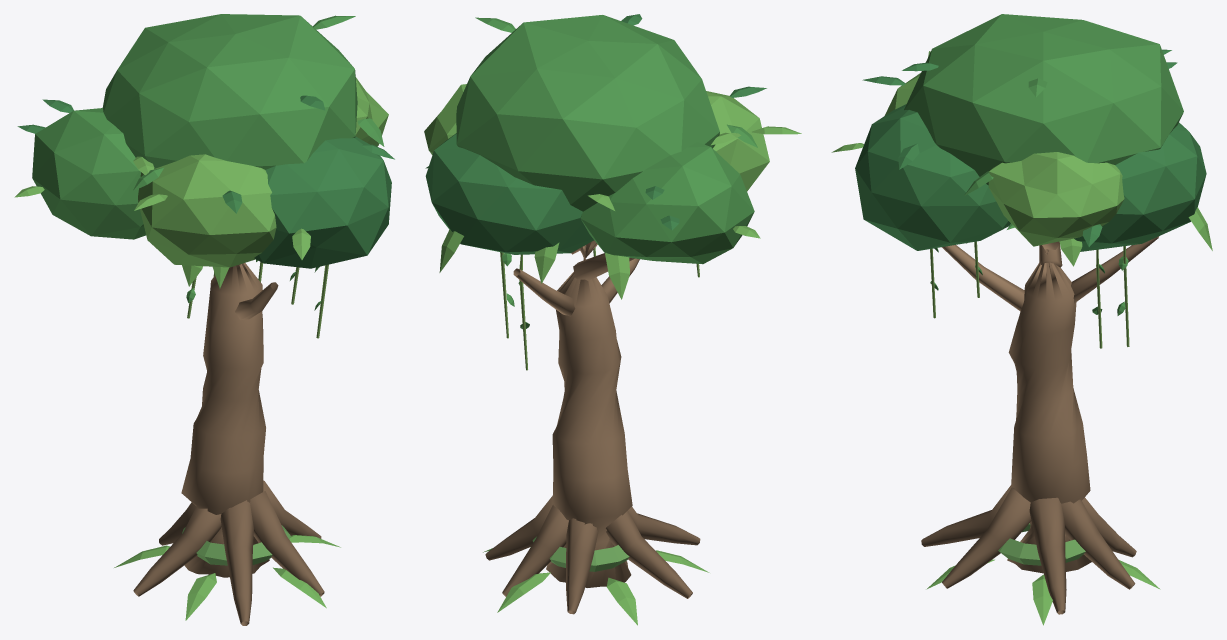
File: tree_2.glb
The picture shows the model from 3 angles, left to right: view 1: azimuth 30°, elevation 25°; view 2: azimuth 150°, elevation 25°; view 3: azimuth 270°, elevation 25°; orthographic projection.
Visible parts, largest first — view 1: tube; view 2: tube; view 3: tube.
Part boxes in pixels (x1,y1,x2,y2): tube: (14, 14, 394, 625); tube: (424, 14, 801, 625); tube: (831, 14, 1212, 625).
Size of the model in its own units: 5.6 by 8.4 by 5.34.
